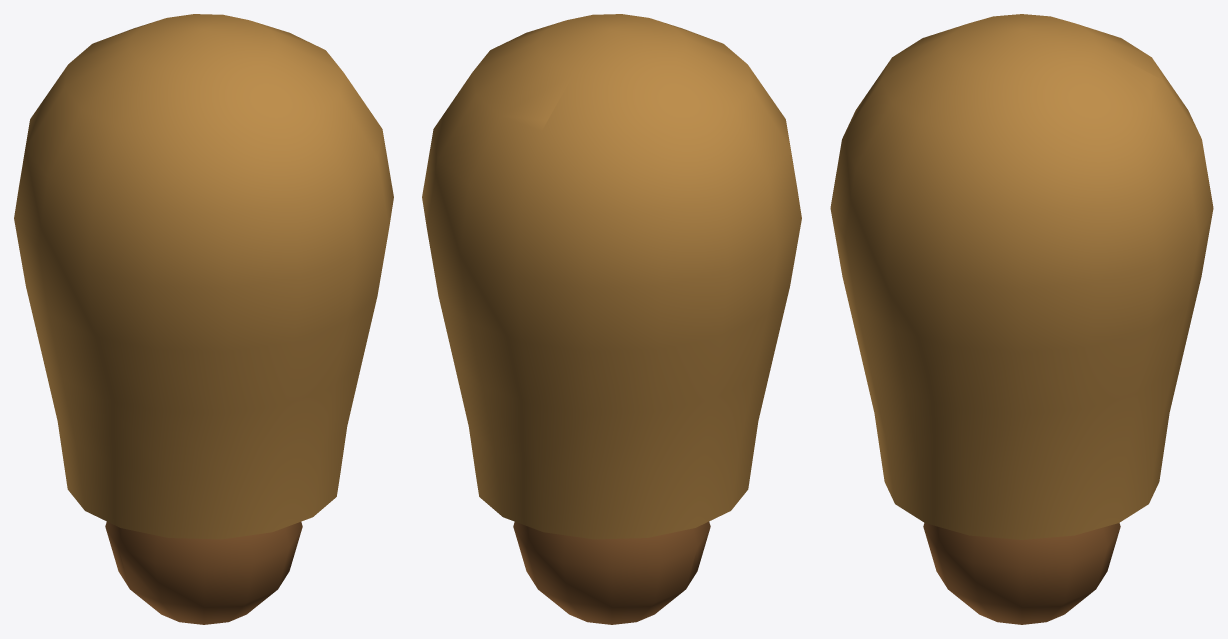
File: head.dae
The picture shows the model from 3 angles, left to right: view 1: azimuth 30°, elevation 25°; view 2: azimuth 150°, elevation 25°; view 3: azimuth 270°, elevation 25°; orthographic projection.
Visible parts, largest first — view 1: Head_Skin, Neck_Skin; view 2: Head_Skin, Neck_Skin; view 3: Head_Skin, Neck_Skin.
Part boxes in pixels (x1=…): Head_Skin: x1=14, y1=14, x2=393, y2=539; Neck_Skin: x1=105, y1=521, x2=302, y2=624; Head_Skin: x1=422, y1=14, x2=801, y2=539; Neck_Skin: x1=513, y1=521, x2=710, y2=624; Head_Skin: x1=830, y1=14, x2=1213, y2=539; Neck_Skin: x1=923, y1=523, x2=1120, y2=624.
Bounding box in the file's own units: 7.64 × 7.64 × 12.89.
